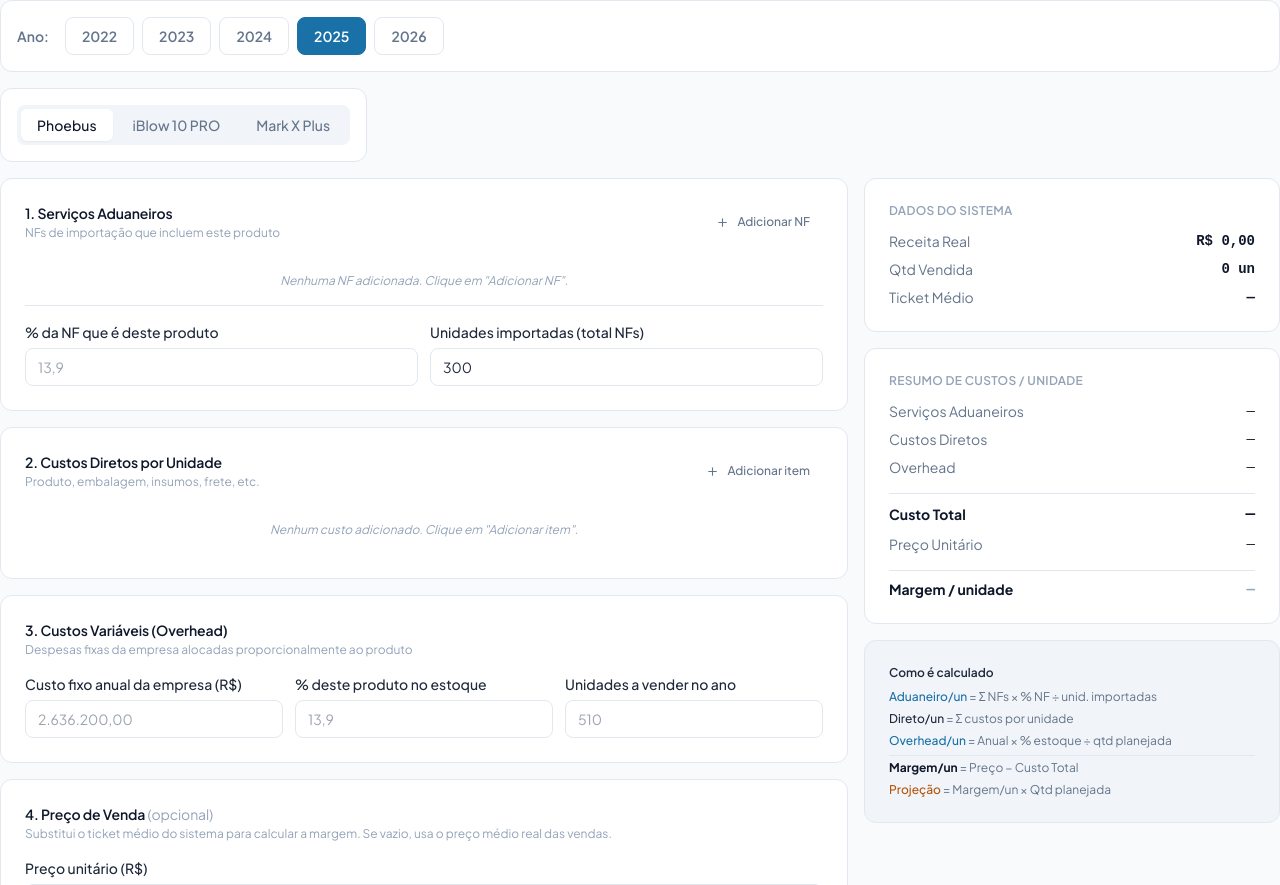
Aba Centro de Custo — configuração gravada › cada produto guarda o seu próprio formulário
Check: the heading "1. Serviços Aduaneiros" is shown, box [25,204,172,222]
Check: the field labelled "Unidades importadas (total NFs)" holds "300", box [430,348,823,386]
Click the tab "iBlow 10 PRO" at x=176, y=125, box [116,109,236,141]
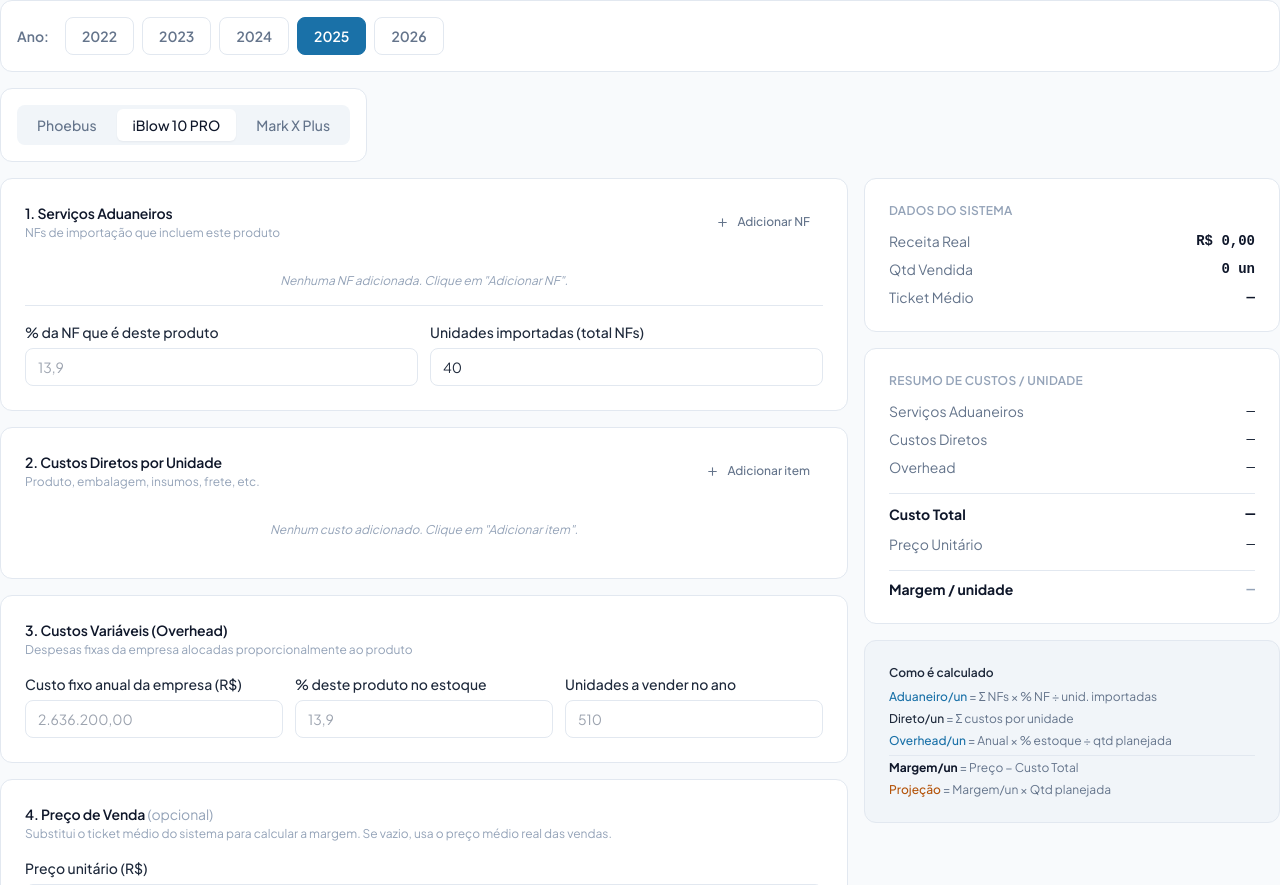
Check: the field labelled "Unidades importadas (total NFs)" holds "40", box [430,348,823,386]
